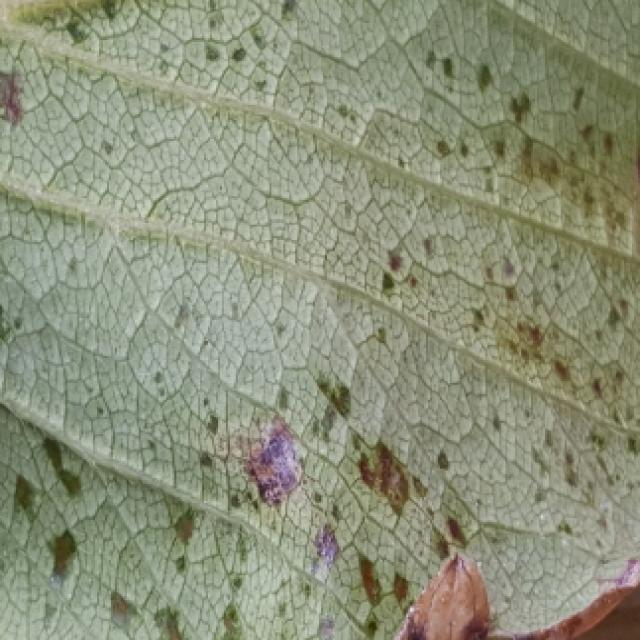Angular Leafspot: (0, 0, 640, 640)
